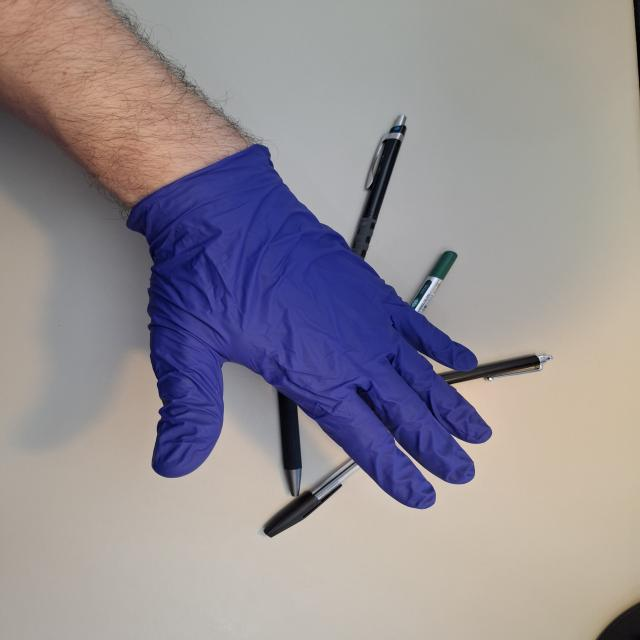glove_on: (122, 147, 496, 512)
